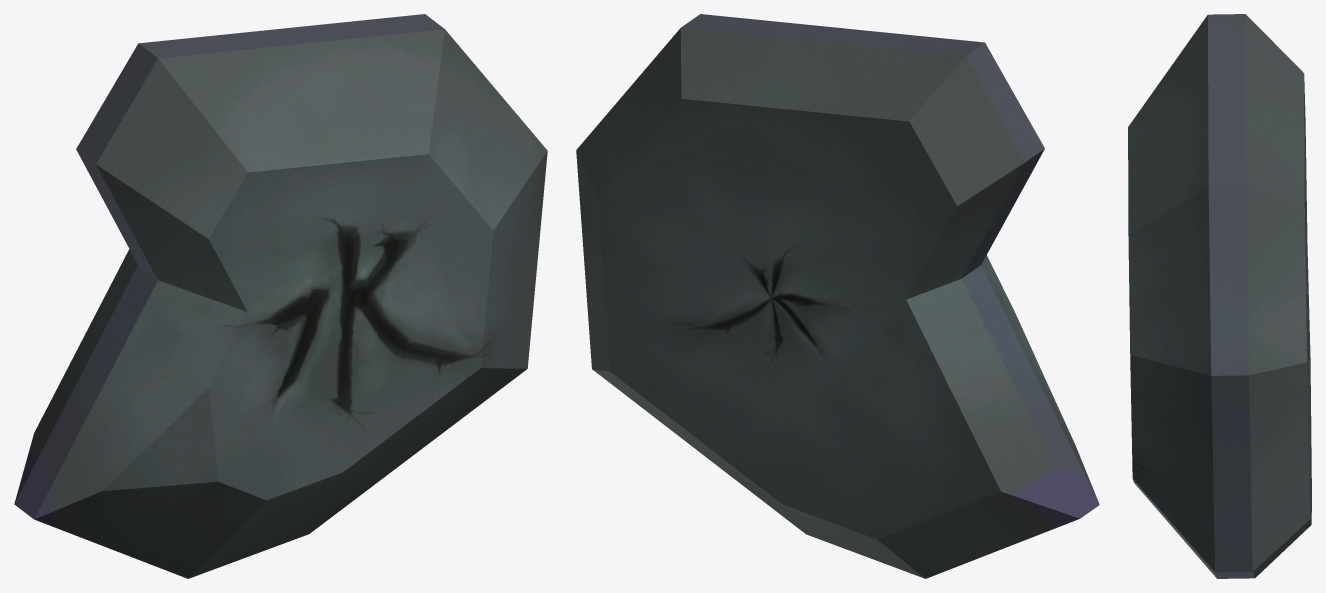
The model's file is runestone 3.fbx.
The picture shows the model from 3 angles, left to right: view 1: azimuth 30°, elevation 25°; view 2: azimuth 150°, elevation 25°; view 3: azimuth 270°, elevation 25°; orthographic projection. The views are drawn at different scales.
Visible parts, largest first — view 1: node_id4; view 2: node_id4; view 3: node_id4.
Boxes of the visible parts, box(x1,y1,x2,y2) form: node_id4: box(14, 14, 547, 578); node_id4: box(576, 14, 1099, 578); node_id4: box(1128, 14, 1311, 578).
Bounding box in the file's own units: 0.4899 × 0.4883 × 0.1605.
1 material, 1 textured.
